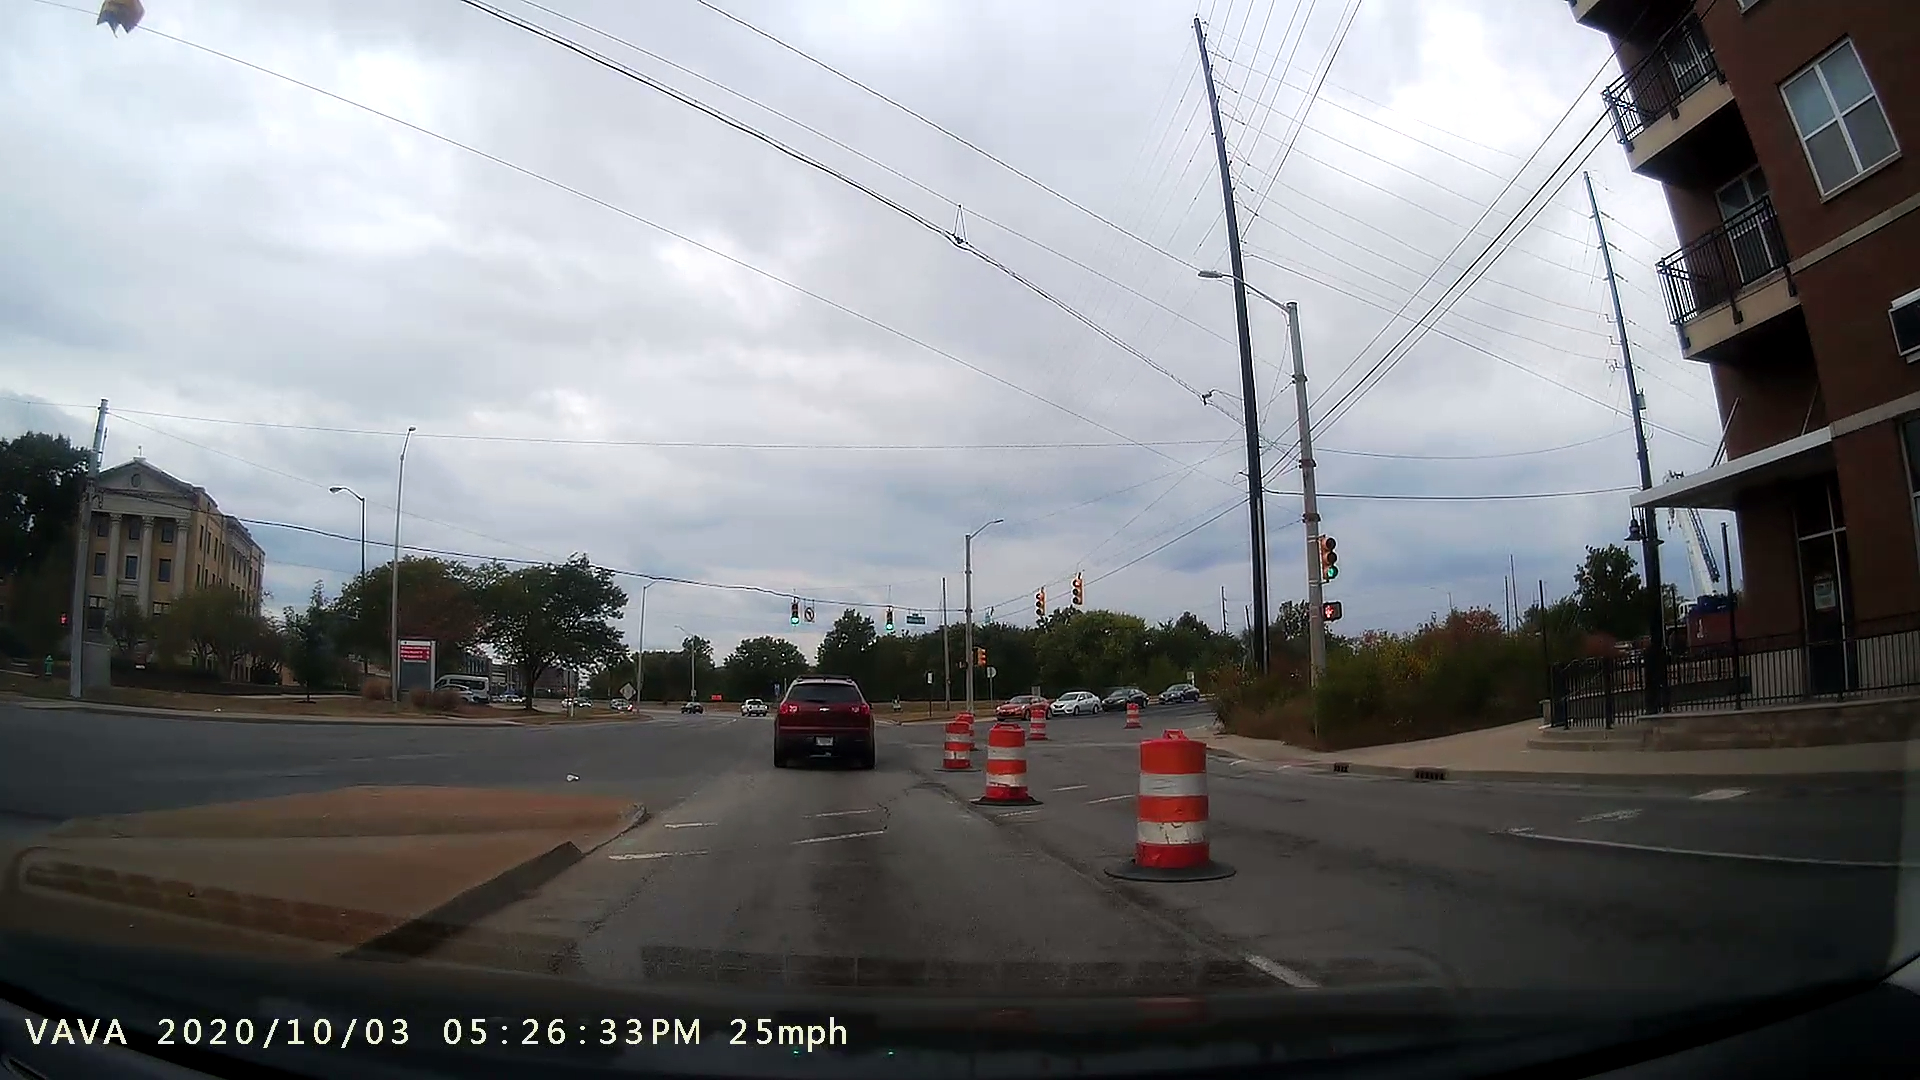const_barrel: (1095, 724, 1255, 889), (971, 721, 1044, 808), (934, 717, 978, 773)
